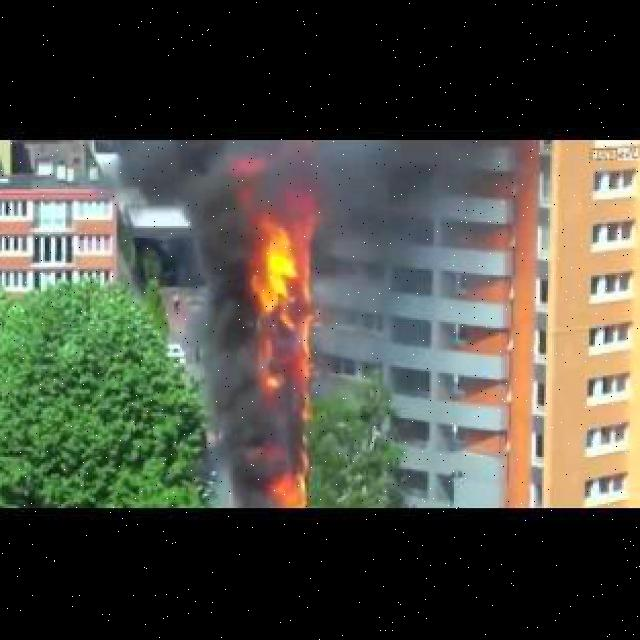fire: (256, 191, 317, 390), (274, 455, 315, 506)
smoke: (188, 140, 270, 506), (315, 140, 470, 308), (209, 380, 329, 470), (96, 140, 186, 214)
